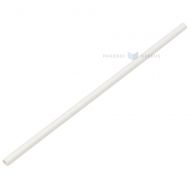Drinking Straw: (2, 21, 190, 167)
